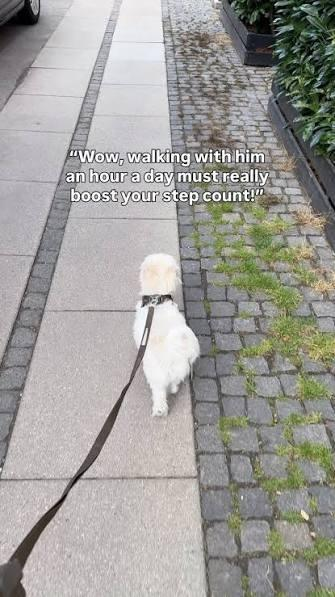adult_dog: (132, 252, 200, 416)
